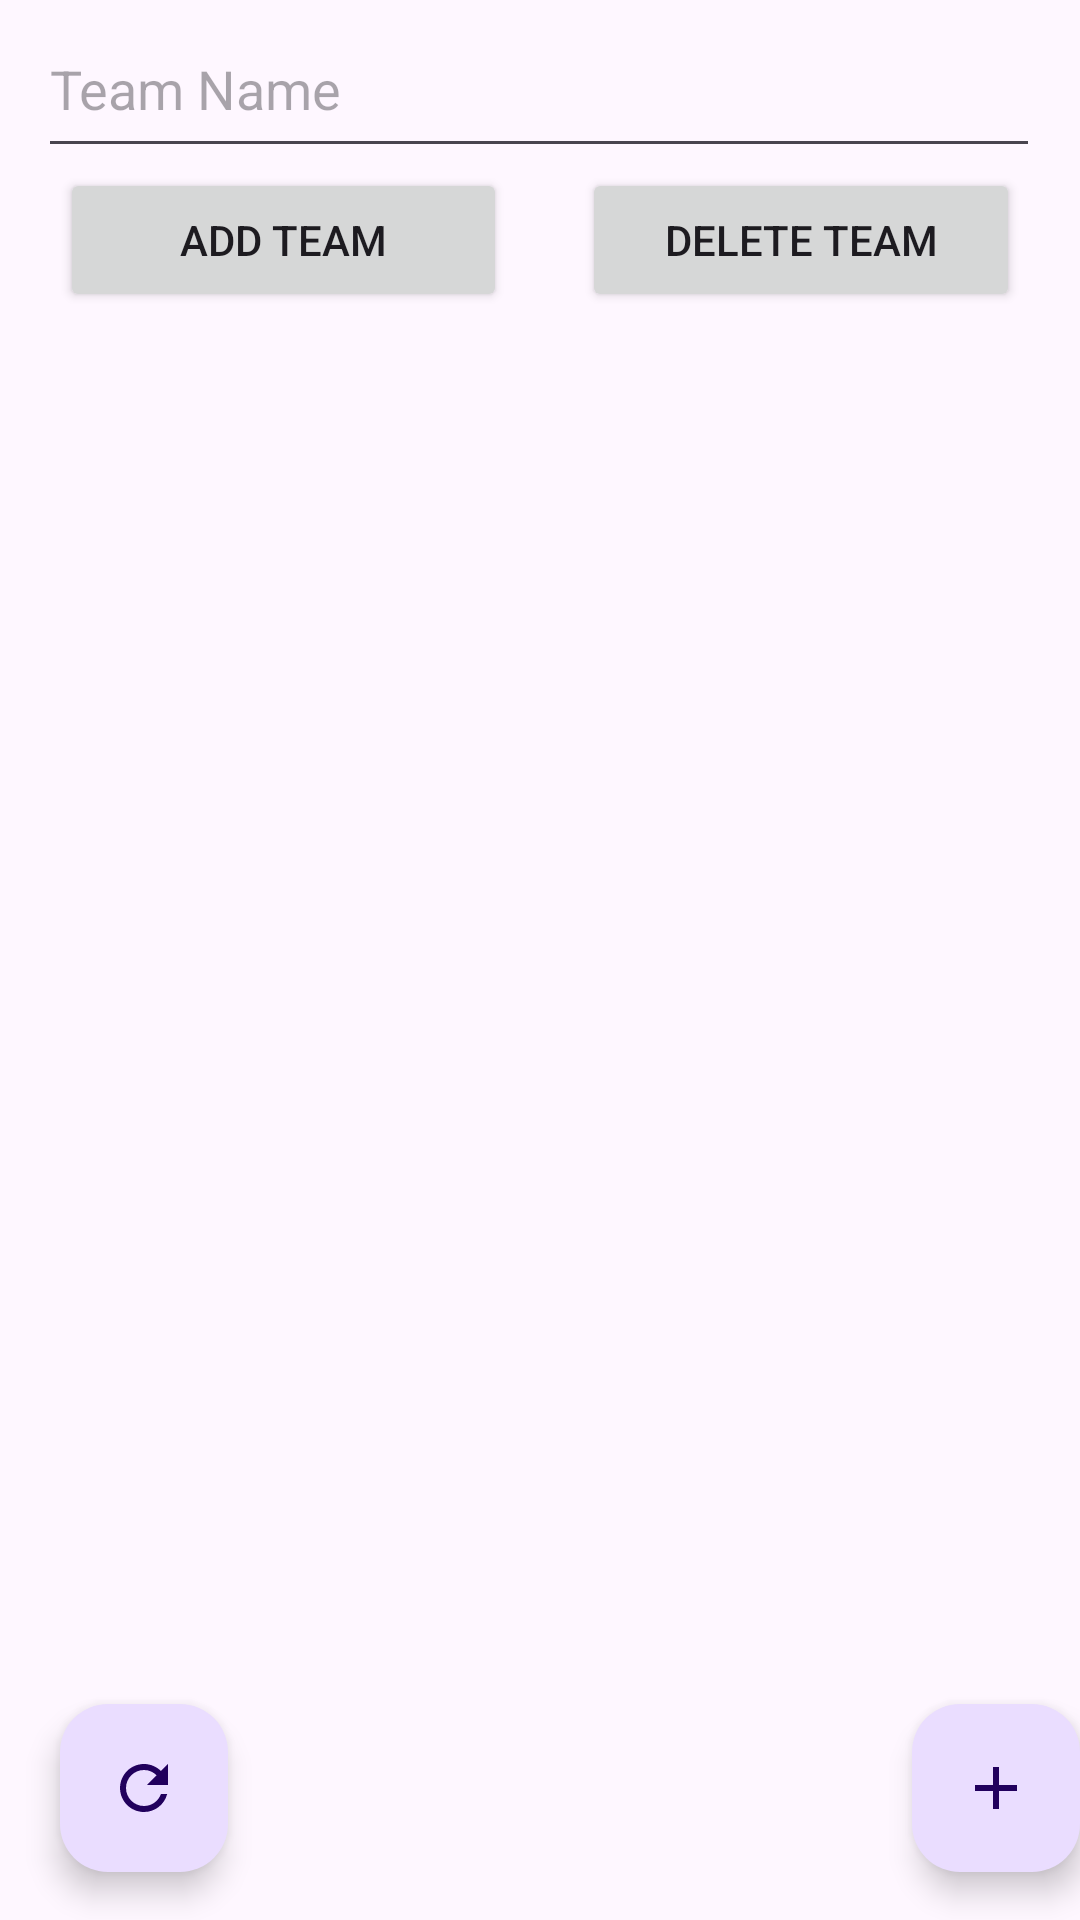

Icons on this 1080px x 1920px Android screen, each with its box as detection(x1, y1, x2, y2):
add: detection(912, 1704, 1080, 1872)
refresh: detection(60, 1704, 228, 1872)
